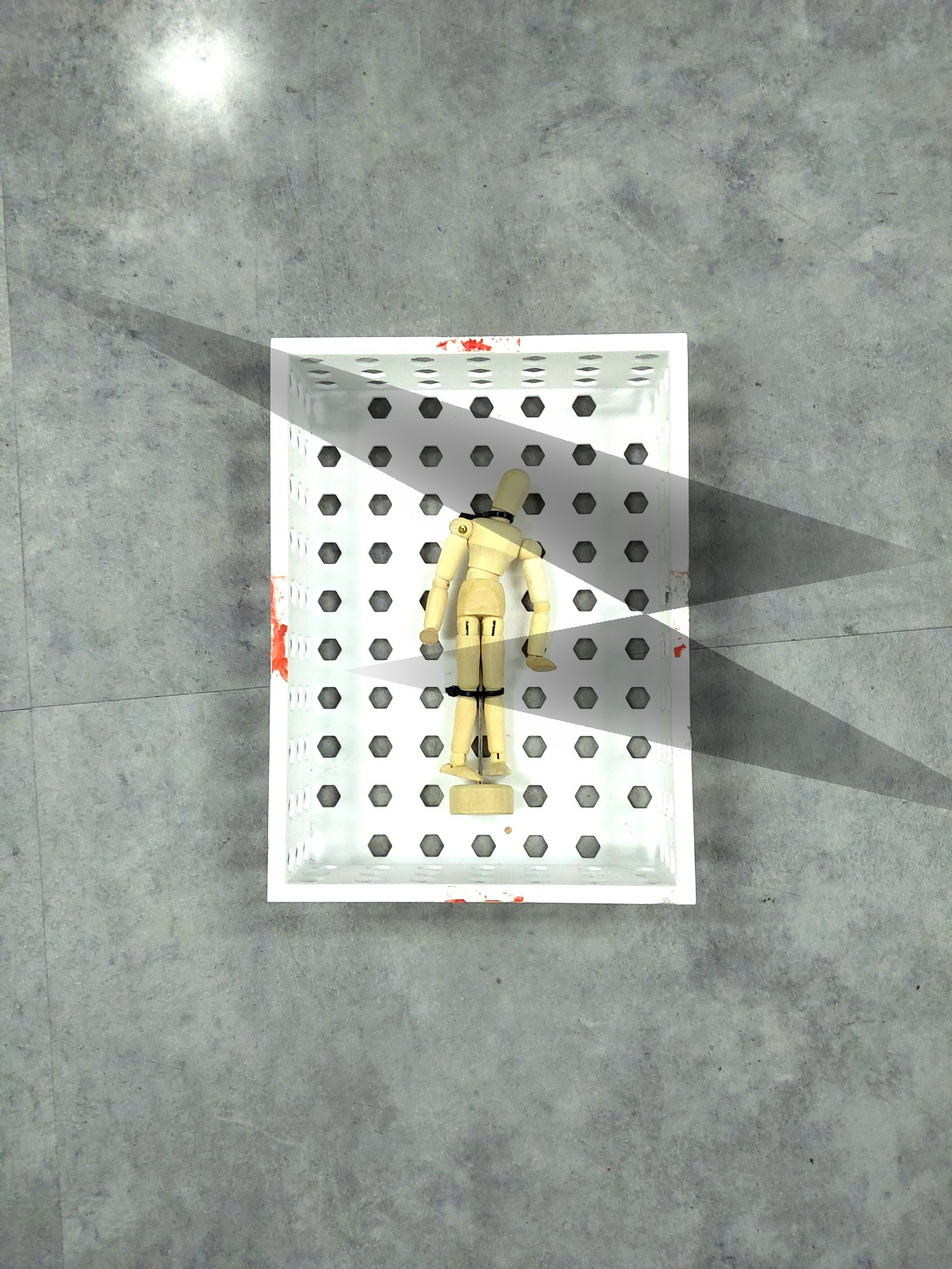basket: (259, 329, 705, 915)
mannequin: (416, 466, 562, 823)
